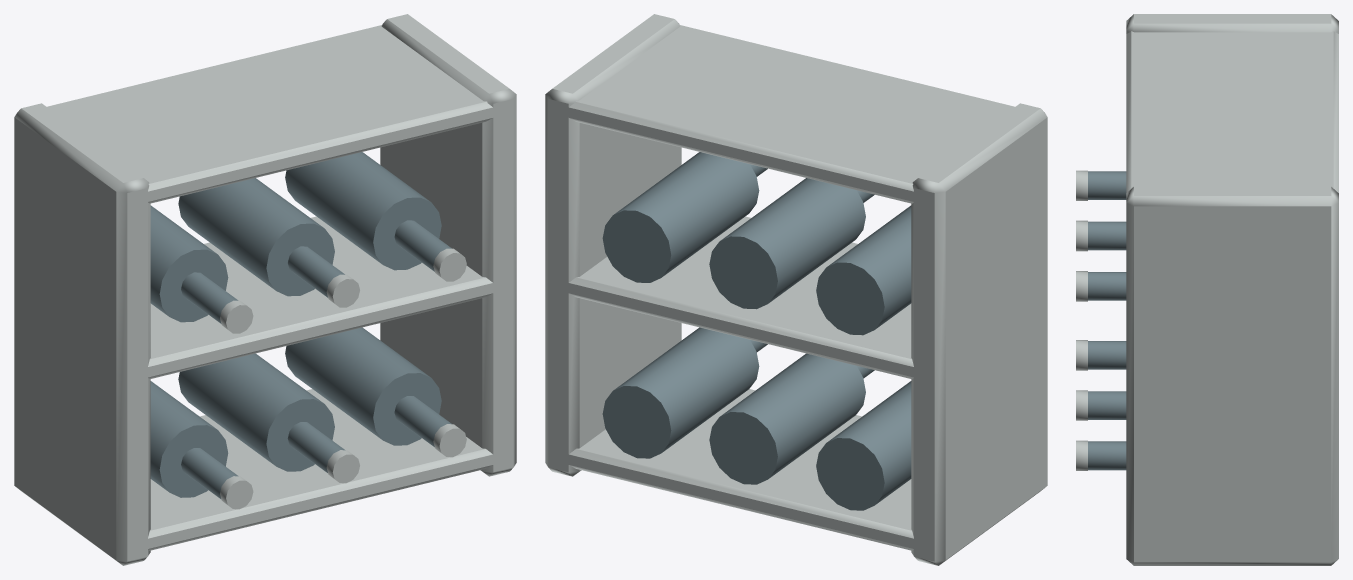
File: wine-rack.glb
3 renders of one model, left to right at view 1: azimuth 30°, elevation 25°; view 2: azimuth 150°, elevation 25°; view 3: azimuth 270°, elevation 25°, orthographic. The views are drawn at different scales.
Visible parts, largest first — view 1: frame_upright, cross_shelf.002, frame_upright.001, cross_shelf.001, cross_shelf, bottle_body.004, bottle_body.002, bottle_body.003, bottle_body.005, bottle_body, bottle_body.001, bottle_neck.001 (+11 smaller); view 2: frame_upright, cross_shelf.002, frame_upright.001, cross_shelf.001, cross_shelf, bottle_body.002, bottle_body.004, bottle_body.003, bottle_body.005, bottle_body, bottle_body.001; view 3: frame_upright.001, cross_shelf.002, frame_upright, bottle_neck.004, bottle_neck.003, bottle_neck, bottle_neck.001, bottle_neck.002, bottle_neck.005, cork.003, cork, cork.001 (+3 smaller).
Part boxes in pixels (<box>): frame_upright: <box>14,103,150,565</box>; cross_shelf.002: <box>47,25,502,203</box>; frame_upright.001: <box>380,14,516,476</box>; cross_shelf.001: <box>138,216,502,379</box>; cross_shelf: <box>138,389,502,551</box>; bottle_body.004: <box>285,327,441,445</box>; bottle_body.002: <box>178,353,334,471</box>; bottle_body.003: <box>178,178,334,296</box>; bottle_body.005: <box>285,152,441,270</box>; bottle_body: <box>150,381,228,497</box>; bottle_body.001: <box>150,205,228,322</box>; bottle_neck.001: <box>181,272,238,323</box>; frame_upright: <box>911,103,1047,565</box>; cross_shelf.002: <box>559,25,1014,204</box>; frame_upright.001: <box>545,14,681,476</box>; cross_shelf.001: <box>568,216,923,379</box>; cross_shelf: <box>559,389,923,550</box>; bottle_body.002: <box>709,353,865,484</box>; bottle_body.004: <box>602,327,759,458</box>; bottle_body.003: <box>709,178,865,309</box>; bottle_body.005: <box>602,152,759,282</box>; bottle_body: <box>816,381,911,510</box>; bottle_body.001: <box>816,205,911,335</box>; frame_upright.001: <box>1126,186,1338,565</box>; cross_shelf.002: <box>1126,31,1338,192</box>; frame_upright: <box>1126,14,1338,33</box>; bottle_neck.004: <box>1088,441,1126,470</box>; bottle_neck.003: <box>1088,221,1126,250</box>; bottle_neck: <box>1088,341,1126,369</box>; bottle_neck.001: <box>1088,171,1126,199</box>; bottle_neck.002: <box>1088,391,1126,419</box>; bottle_neck.005: <box>1088,272,1126,300</box>; cork.003: <box>1076,220,1087,251</box>; cork: <box>1076,340,1087,370</box>; cork.001: <box>1076,170,1087,200</box>.
Size of the model in its own units: 0.525 by 0.48 by 0.309.
